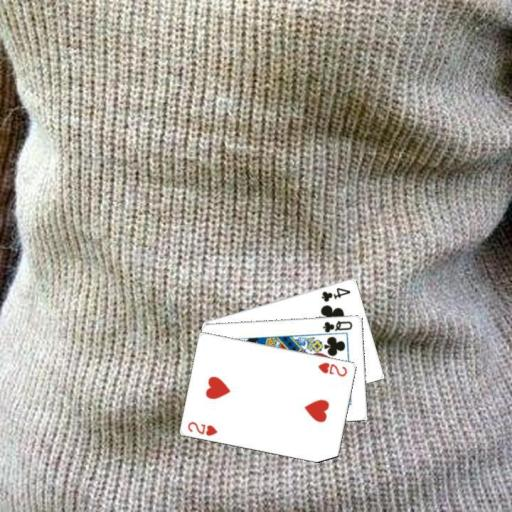2H: (315, 359, 349, 378), (185, 418, 219, 437)
4C: (318, 284, 352, 303)
QC: (320, 317, 354, 334)
